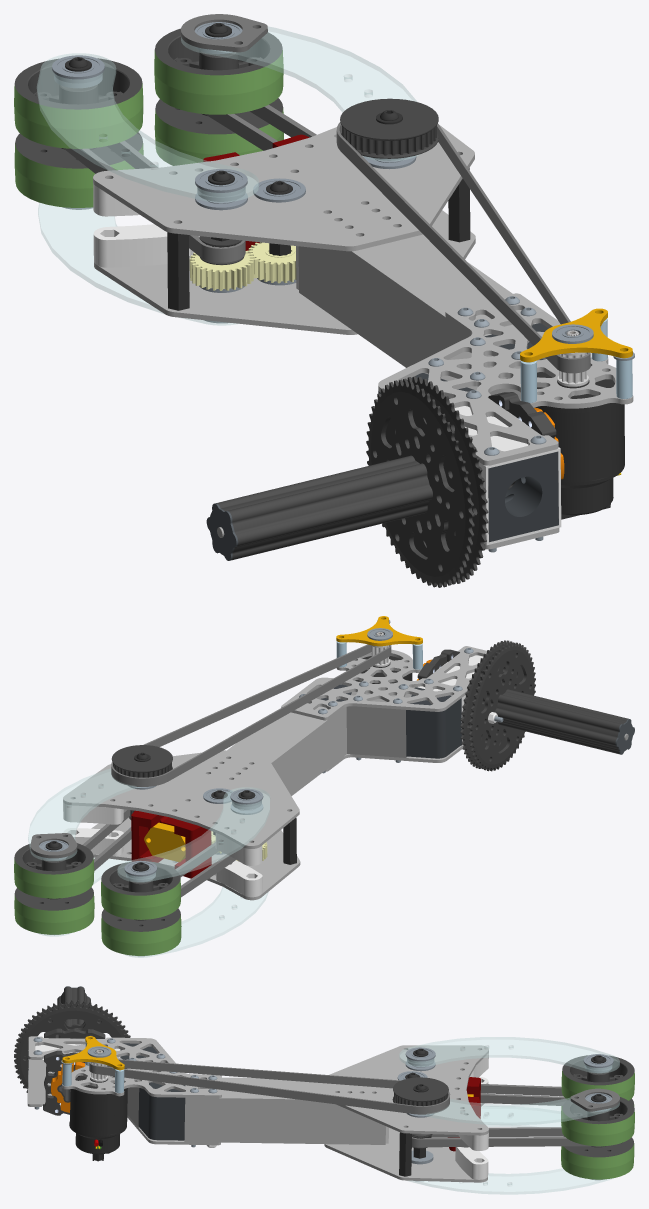
The picture shows the model from 3 angles, top to bottom: view 1: azimuth 30°, elevation 25°; view 2: azimuth 150°, elevation 25°; view 3: azimuth 270°, elevation 25°; orthographic projection. The views are drawn at different scales.
Visible parts, largest first — view 1: Mount Plate (×2), 3" OD 1/2" Hex ID Stealth Wheel 35A (am-4716) 35A (×4), Jaw (×3), 60t Aluminum Plate Sprocket (#25 Chain, SplineXL Bore) (×2), Arm 2.0 EE Tube, Arm 2.0 Doubler - Motor, SplineXL Tube (WCP-0918), Falcon 500 (V1/2), Configurable Belt, Arm 2.0 3DP Insert 1, 36t HTD Pulley 9.53mm Wide, 90T HTD Belt (×2) (+10 smaller); view 2: Mount Plate (×2), 3" OD 1/2" Hex ID Stealth Wheel 35A (am-4716) 35A (×4), Jaw (×3), 60t Aluminum Plate Sprocket (#25 Chain, SplineXL Bore) (×2), Arm 2.0 Doubler - Motor, Arm 2.0 EE Tube, Configurable Belt, SplineXL Tube (WCP-0918), Arm 2.0 Intermediate Tube, Arm 2.0 3DP Insert 1, Backstop 1A, Backstop 2B (×2) (+10 smaller); view 3: Jaw (×4), Mount Plate (×2), Arm 2.0 EE Tube, 3" OD 1/2" Hex ID Stealth Wheel 35A (am-4716) 35A (×3), Configurable Belt, Arm 2.0 Doubler - Motor, 90T HTD Belt (×2), Falcon 500 (V1/2), 60t Aluminum Plate Sprocket (#25 Chain, SplineXL Bore) (×2), Arm 2.0 3DP Insert 2, 36t HTD Pulley 9.53mm Wide, Arm Tube Sprocket Portion (+13 smaller).
Boxes of the visible parts, x1,y1,x2,y2 form: Mount Plate (×2): (93,125,475,334); 3" OD 1/2" Hex ID Stealth Wheel 35A (am-4716) 35A (×4): (14,28,283,207); Jaw (×3): (37,26,420,325); 60t Aluminum Plate Sprocket (#25 Chain, SplineXL Bore) (×2): (366,376,488,587); Arm 2.0 EE Tube: (298,234,538,367); Arm 2.0 Doubler - Motor: (378,293,633,465); SplineXL Tube (WCP-0918): (216,455,515,560); Falcon 500 (V1/2): (535,372,624,519); Configurable Belt: (336,122,590,373); Arm 2.0 3DP Insert 1: (378,373,558,542); 36t HTD Pulley 9.53mm Wide: (340,98,438,158); 90T HTD Belt (×2): (63,105,316,262); Mount Plate (×2): (63,750,300,900); 3" OD 1/2" Hex ID Stealth Wheel 35A (am-4716) 35A (×4): (14,843,181,955); Jaw (×3): (28,769,269,957); 60t Aluminum Plate Sprocket (#25 Chain, SplineXL Bore) (×2): (460,640,535,771); Arm 2.0 Doubler - Motor: (281,646,486,720); Arm 2.0 EE Tube: (227,699,346,795); Configurable Belt: (111,644,391,786); SplineXL Tube (WCP-0918): (490,689,628,754); Arm 2.0 Intermediate Tube: (346,687,414,757); Arm 2.0 3DP Insert 1: (406,687,461,758); Backstop 1A: (131,810,211,878); Backstop 2B (×2): (63,802,262,897); Jaw (×4): (399,1037,619,1194); Mount Plate (×2): (324,1045,488,1182); Arm 2.0 EE Tube: (184,1077,385,1144); 3" OD 1/2" Hex ID Stealth Wheel 35A (am-4716) 35A (×3): (561,1055,634,1179); Configurable Belt: (89,1059,450,1114); Arm 2.0 Doubler - Motor: (28,1036,221,1097); 90T HTD Belt (×2): (412,1084,594,1147); Falcon 500 (V1/2): (69,1075,127,1161); 60t Aluminum Plate Sprocket (#25 Chain, SplineXL Bore) (×2): (14,1000,130,1092); Arm 2.0 3DP Insert 2: (138,1082,185,1140); 36t HTD Pulley 9.53mm Wide: (392,1077,448,1106); Arm Tube Sprocket Portion: (28,1044,120,1104).
Size of the model in its own units: 0.3735 by 0.1249 by 0.6447.
